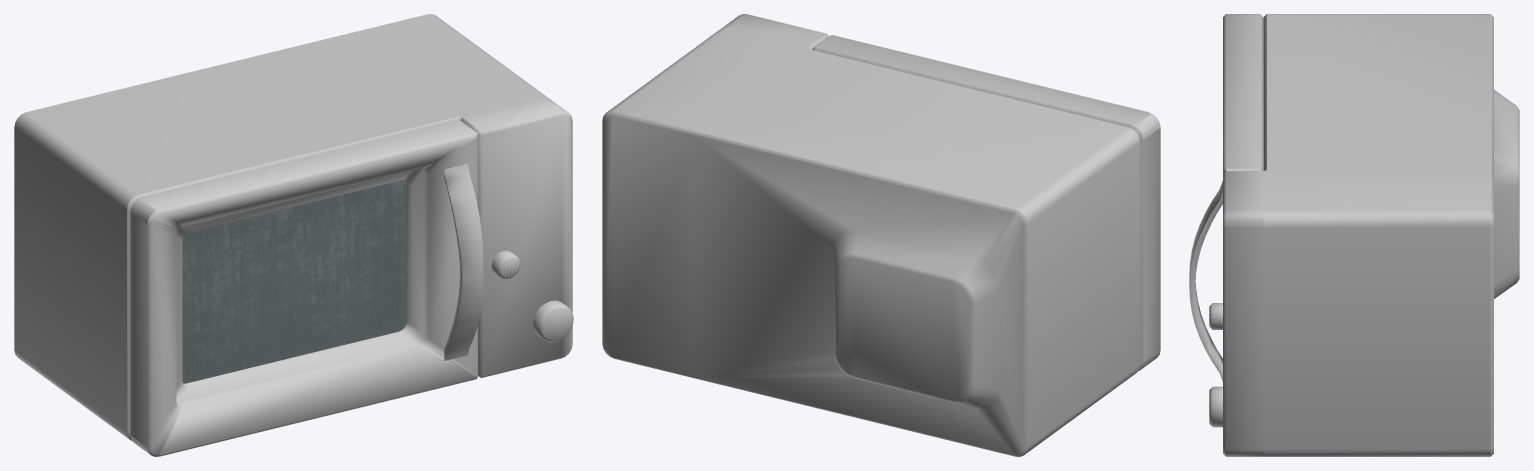
Rendered from microwave.fbx.
The picture shows the model from 3 angles, left to right: view 1: azimuth 30°, elevation 25°; view 2: azimuth 150°, elevation 25°; view 3: azimuth 270°, elevation 25°; orthographic projection.
Visible parts, largest first — view 1: Micro, MicroDoor; view 2: Micro, MicroDoor; view 3: Micro, MicroDoor.
Part boxes in pixels (x1,y1,x2,y2): Micro: (14, 14, 573, 440); MicroDoor: (130, 120, 483, 456); Micro: (602, 14, 1140, 456); MicroDoor: (813, 35, 1160, 370); Micro: (1209, 14, 1519, 456); MicroDoor: (1189, 14, 1263, 381).
Bounding box in the file's own units: 82.8 × 46 × 56.07.
